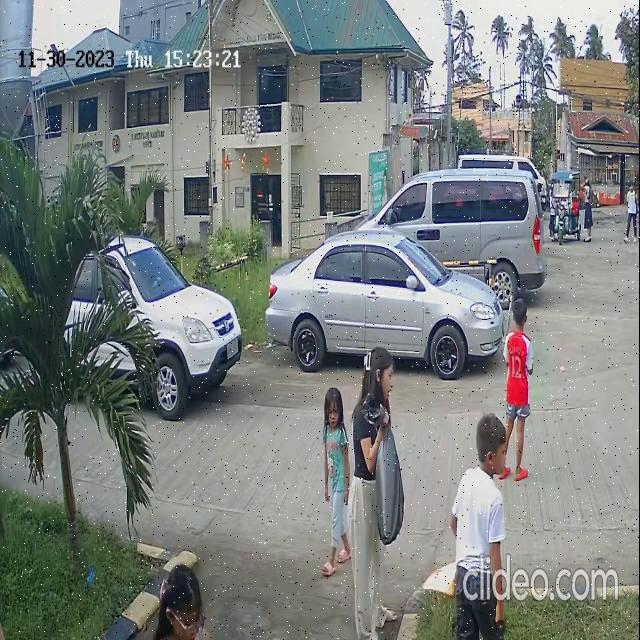garbage_dumping: (367, 398, 408, 544)
